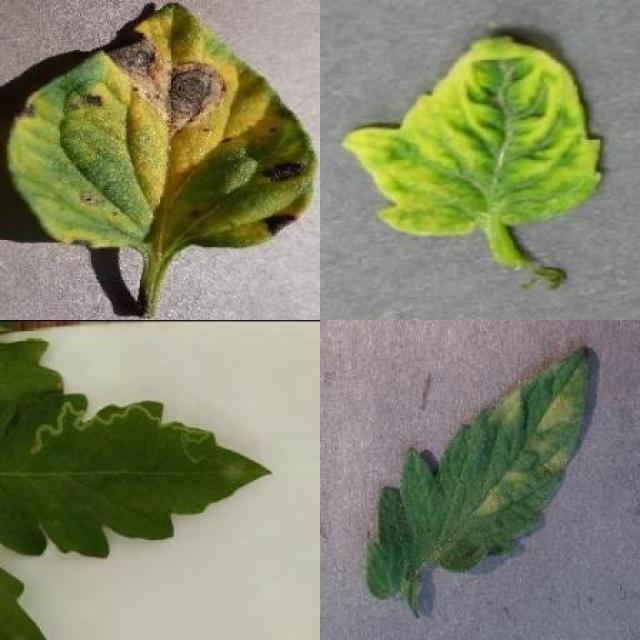Early Blight: (5, 2, 315, 252)
Leaf Miner: (0, 393, 274, 559)
Leaf Mold: (365, 346, 591, 601)
Yellow Leaf Curl Virus: (344, 36, 606, 236)
